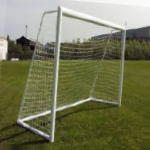goals: (17, 5, 126, 141)
